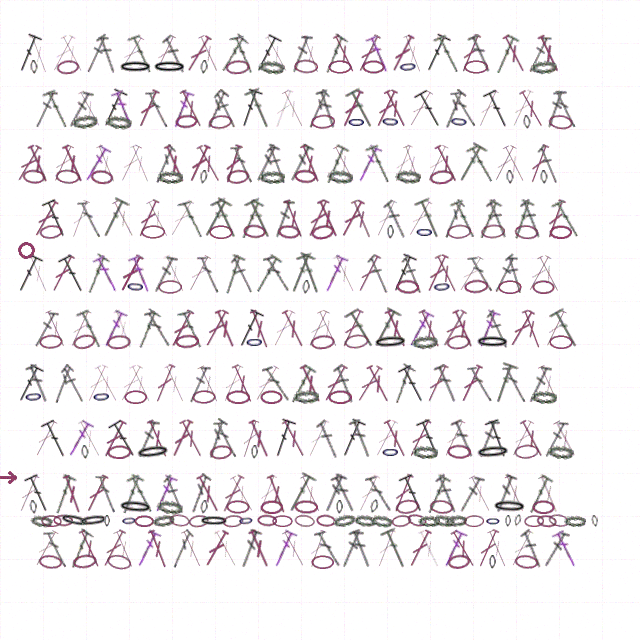chain: (135, 443, 171, 461), (475, 444, 511, 460), (373, 334, 408, 350), (118, 499, 153, 515), (59, 512, 90, 529), (492, 499, 527, 514), (118, 60, 153, 74), (152, 60, 187, 74), (475, 335, 510, 349), (72, 332, 97, 351), (106, 553, 132, 571), (78, 513, 109, 528), (71, 113, 98, 130), (310, 223, 335, 241), (258, 59, 285, 75), (530, 59, 557, 75), (105, 114, 132, 130), (411, 334, 438, 350), (547, 444, 574, 460), (156, 499, 183, 515), (344, 333, 369, 350), (395, 498, 420, 515), (72, 553, 97, 570), (226, 168, 250, 185), (332, 512, 356, 529), (447, 553, 471, 570), (225, 59, 250, 75), (208, 114, 233, 130), (548, 114, 573, 130), (429, 169, 454, 185), (514, 224, 539, 240), (106, 334, 131, 350), (310, 334, 335, 350), (446, 334, 471, 350), (429, 499, 454, 515), (38, 554, 63, 570), (514, 554, 539, 570), (327, 169, 353, 184), (395, 169, 421, 184), (293, 389, 319, 404), (56, 59, 80, 75), (90, 169, 114, 185), (39, 224, 63, 240), (277, 224, 301, 240), (209, 444, 233, 460), (55, 169, 80, 184), (514, 444, 539, 459), (406, 512, 428, 529), (157, 170, 183, 184), (259, 170, 285, 184), (531, 390, 557, 404), (412, 445, 438, 459), (294, 59, 318, 74), (311, 114, 335, 129), (22, 169, 46, 184), (447, 224, 471, 239), (481, 224, 505, 239), (464, 279, 488, 294), (39, 334, 63, 349), (175, 334, 199, 349), (447, 444, 471, 459), (199, 515, 229, 527), (175, 114, 198, 129), (294, 169, 317, 184), (243, 224, 266, 239), (396, 279, 419, 294), (152, 513, 175, 528), (432, 513, 455, 528), (328, 60, 352, 74), (464, 60, 488, 74), (141, 225, 165, 239), (209, 225, 233, 239), (158, 280, 182, 294), (498, 280, 522, 294), (549, 335, 573, 349), (192, 390, 216, 404), (226, 390, 250, 404), (328, 390, 352, 404), (107, 445, 131, 459), (226, 500, 250, 514), (294, 500, 318, 514), (548, 513, 570, 528), (362, 60, 385, 74), (549, 225, 572, 239), (532, 280, 555, 294), (124, 390, 147, 404), (260, 390, 283, 404), (260, 500, 283, 514), (532, 500, 555, 514), (30, 514, 53, 528), (370, 514, 393, 528), (311, 555, 334, 569), (169, 513, 190, 528), (222, 514, 244, 528), (398, 59, 418, 74), (449, 114, 469, 129), (432, 279, 452, 294), (188, 514, 209, 528), (294, 514, 315, 528), (391, 514, 412, 528), (536, 514, 557, 528), (354, 514, 376, 527), (445, 514, 467, 527), (381, 114, 400, 129), (126, 279, 145, 294), (24, 389, 43, 404), (92, 389, 111, 404), (347, 115, 366, 129), (415, 225, 434, 239), (245, 335, 264, 349), (381, 445, 400, 459), (418, 515, 440, 527), (564, 515, 586, 527), (53, 514, 73, 527), (257, 514, 277, 527), (316, 514, 336, 527), (41, 515, 62, 527), (272, 515, 293, 527), (134, 515, 154, 527), (464, 515, 484, 527), (524, 515, 544, 527), (121, 514, 137, 527), (238, 514, 254, 527), (485, 515, 501, 527), (369, 499, 379, 514), (199, 170, 208, 184), (29, 500, 38, 514), (513, 514, 522, 527), (30, 60, 38, 74), (200, 60, 208, 74), (523, 115, 531, 129), (506, 170, 514, 184), (540, 170, 548, 184), (302, 280, 310, 294), (81, 445, 89, 459), (200, 500, 208, 514), (387, 225, 394, 239), (251, 445, 258, 459), (336, 500, 343, 514), (489, 555, 496, 569), (591, 515, 599, 527), (104, 515, 110, 527), (505, 515, 511, 527)
double: (344, 307, 379, 350), (454, 142, 488, 185), (199, 197, 233, 240), (549, 307, 583, 350), (107, 418, 141, 460), (345, 87, 378, 130), (369, 307, 402, 350), (284, 472, 317, 515), (216, 33, 250, 74), (413, 88, 446, 130), (98, 197, 130, 240), (210, 197, 242, 240), (244, 197, 276, 240), (250, 253, 283, 294), (251, 33, 283, 75), (550, 198, 582, 240), (57, 253, 89, 295), (13, 363, 45, 405), (285, 363, 317, 405), (397, 363, 429, 405), (421, 32, 452, 75), (98, 87, 129, 130), (244, 87, 275, 130), (414, 197, 445, 240), (23, 472, 54, 515), (380, 527, 411, 570), (404, 88, 436, 129), (438, 308, 470, 349), (482, 88, 513, 130), (465, 143, 496, 185), (13, 253, 44, 295), (234, 308, 265, 350), (40, 418, 71, 460), (125, 473, 156, 515), (421, 473, 452, 515), (523, 473, 554, 515), (41, 197, 71, 240), (286, 252, 316, 295), (388, 252, 418, 295), (337, 417, 367, 460), (415, 417, 445, 460), (398, 472, 428, 515), (115, 34, 147, 74), (353, 364, 385, 404), (13, 143, 44, 184), (81, 143, 112, 184), (30, 198, 61, 239), (166, 198, 197, 239), (404, 198, 435, 239), (506, 308, 537, 349), (251, 363, 282, 404), (64, 418, 95, 459), (550, 418, 581, 459), (227, 473, 258, 514), (448, 528, 479, 569), (432, 33, 462, 75), (490, 33, 520, 75), (41, 88, 71, 130), (320, 143, 350, 185), (177, 198, 207, 240), (235, 198, 265, 240), (473, 198, 503, 240), (99, 418, 129, 460), (65, 528, 95, 570), (14, 32, 43, 75), (296, 252, 325, 295), (490, 362, 519, 405), (183, 34, 214, 74), (455, 254, 486, 294), (48, 33, 78, 74), (262, 33, 292, 74), (75, 88, 105, 129), (517, 88, 547, 129), (194, 143, 224, 184), (143, 198, 173, 239), (337, 198, 367, 239), (116, 253, 146, 294), (184, 253, 214, 294), (524, 253, 554, 294), (534, 253, 564, 294), (201, 308, 231, 349), (405, 308, 435, 349), (92, 363, 122, 404), (116, 363, 146, 404), (320, 363, 350, 404), (75, 418, 105, 459), (279, 418, 309, 459), (371, 418, 401, 459), (507, 418, 537, 459), (517, 418, 547, 459), (31, 528, 61, 569), (201, 528, 231, 569), (211, 528, 241, 569), (279, 528, 309, 569), (126, 33, 155, 75), (320, 33, 349, 75), (364, 143, 393, 185), (449, 198, 478, 240), (82, 253, 111, 295), (75, 308, 104, 350), (133, 308, 162, 350), (177, 308, 206, 350), (194, 363, 223, 405), (116, 473, 145, 515), (218, 473, 247, 515), (415, 528, 444, 570), (236, 87, 264, 130), (484, 417, 512, 460), (58, 33, 87, 74), (330, 33, 359, 74), (354, 33, 383, 74), (388, 33, 417, 74), (500, 33, 529, 74), (177, 88, 206, 129), (279, 88, 308, 129), (381, 88, 410, 129), (116, 143, 145, 184), (252, 143, 281, 184), (286, 143, 315, 184), (330, 143, 359, 184), (354, 143, 383, 184), (432, 143, 461, 184), (490, 143, 519, 184), (500, 143, 529, 184), (109, 198, 138, 239), (48, 253, 77, 294), (92, 253, 121, 294), (354, 253, 383, 294), (432, 253, 461, 294), (167, 308, 196, 349), (269, 308, 298, 349), (279, 308, 308, 349), (541, 308, 570, 349), (364, 363, 393, 404), (31, 418, 60, 459), (177, 418, 206, 459), (381, 418, 410, 459), (405, 418, 434, 459), (82, 473, 111, 514), (194, 473, 223, 514), (330, 473, 359, 514), (354, 473, 383, 514), (466, 473, 495, 514), (99, 528, 128, 569), (133, 528, 162, 569), (405, 528, 434, 569), (507, 528, 536, 569), (551, 528, 580, 569), (229, 33, 257, 75), (348, 198, 376, 240), (389, 363, 417, 405), (49, 473, 77, 515), (535, 473, 563, 515), (110, 528, 138, 570), (270, 417, 297, 460), (262, 364, 291, 404), (541, 529, 570, 569), (151, 33, 179, 74), (195, 33, 223, 74), (467, 33, 495, 74), (535, 33, 563, 74), (134, 88, 162, 129), (338, 88, 366, 129), (372, 88, 400, 129), (474, 88, 502, 129), (508, 88, 536, 129), (49, 143, 77, 184), (59, 143, 87, 184), (161, 143, 189, 184), (185, 143, 213, 184), (423, 143, 451, 184), (134, 198, 162, 239), (304, 198, 332, 239), (314, 198, 342, 239), (372, 198, 400, 239), (161, 253, 189, 294), (321, 253, 349, 294), (331, 253, 359, 294), (423, 253, 451, 294), (42, 308, 70, 349), (66, 308, 94, 349), (100, 308, 128, 349), (304, 308, 332, 349), (314, 308, 342, 349), (338, 308, 366, 349), (382, 308, 410, 349), (416, 308, 444, 349), (83, 363, 111, 404), (127, 363, 155, 404), (161, 363, 189, 404), (229, 363, 257, 404), (297, 363, 325, 404), (423, 363, 451, 404), (433, 363, 461, 404), (457, 363, 485, 404), (535, 363, 563, 404), (144, 418, 172, 459), (168, 418, 196, 459), (304, 418, 332, 459), (440, 418, 468, 459), (450, 418, 478, 459), (297, 473, 325, 514), (501, 473, 529, 514), (76, 528, 104, 569), (178, 528, 206, 569), (270, 528, 298, 569), (440, 528, 468, 569), (474, 528, 502, 569), (270, 88, 297, 130), (508, 198, 535, 240), (219, 253, 246, 295), (110, 308, 137, 350), (66, 89, 94, 129), (202, 89, 230, 129), (263, 254, 291, 294), (144, 309, 172, 349), (365, 474, 393, 514), (457, 474, 485, 514), (314, 529, 342, 569), (365, 33, 392, 74), (457, 33, 484, 74), (110, 88, 137, 129), (25, 143, 52, 184), (93, 143, 120, 184), (127, 143, 154, 184), (297, 143, 324, 184), (25, 253, 52, 294), (127, 253, 154, 294), (212, 308, 239, 349), (450, 308, 477, 349), (25, 363, 52, 404), (151, 363, 178, 404), (219, 363, 246, 404), (246, 418, 273, 459), (348, 418, 375, 459), (15, 473, 42, 514), (151, 473, 178, 514), (321, 473, 348, 514), (246, 528, 273, 569), (348, 528, 375, 569), (484, 528, 511, 569), (26, 33, 52, 75), (298, 33, 324, 75), (169, 88, 195, 130), (450, 89, 478, 128), (526, 143, 552, 185), (67, 198, 93, 240), (467, 254, 495, 293), (247, 308, 273, 350), (519, 308, 545, 350), (59, 364, 87, 403), (254, 473, 280, 515), (264, 473, 290, 515), (492, 473, 518, 515), (145, 528, 171, 570), (237, 528, 263, 570), (161, 34, 188, 74), (212, 89, 239, 129), (440, 89, 467, 129), (382, 199, 409, 239), (151, 254, 178, 294), (229, 254, 256, 294), (32, 309, 59, 349), (542, 419, 569, 459), (400, 33, 426, 74), (390, 143, 416, 184), (281, 198, 307, 239), (475, 308, 501, 349), (186, 473, 212, 514), (390, 473, 416, 514), (434, 473, 460, 514), (373, 528, 399, 569), (519, 528, 545, 569), (467, 364, 494, 403), (315, 88, 340, 130), (400, 143, 425, 185), (543, 198, 568, 240), (60, 473, 85, 515), (305, 528, 330, 570), (526, 34, 552, 74), (305, 89, 331, 129), (77, 199, 103, 239), (492, 254, 518, 294), (485, 309, 511, 349), (502, 364, 528, 404), (526, 364, 552, 404), (213, 419, 239, 459), (315, 419, 341, 459), (43, 529, 69, 569), (169, 529, 195, 569), (485, 198, 510, 239), (519, 198, 544, 239), (332, 363, 357, 404), (135, 418, 160, 459), (339, 528, 364, 569), (221, 143, 245, 185), (238, 418, 262, 460), (84, 34, 109, 74), (33, 89, 58, 129), (145, 89, 170, 129), (553, 89, 578, 129), (152, 144, 177, 184), (230, 144, 255, 184), (536, 144, 561, 184), (441, 199, 466, 239), (366, 254, 391, 294), (400, 254, 425, 294), (162, 474, 187, 514), (95, 33, 119, 74), (289, 33, 313, 74), (204, 418, 228, 459), (476, 418, 500, 459), (265, 144, 289, 184), (197, 254, 221, 294), (51, 364, 75, 404), (187, 364, 211, 404), (544, 88, 567, 129), (272, 198, 295, 239), (95, 473, 118, 514), (504, 253, 525, 294)
noise: (16, 240, 37, 261), (0, 471, 19, 484)
